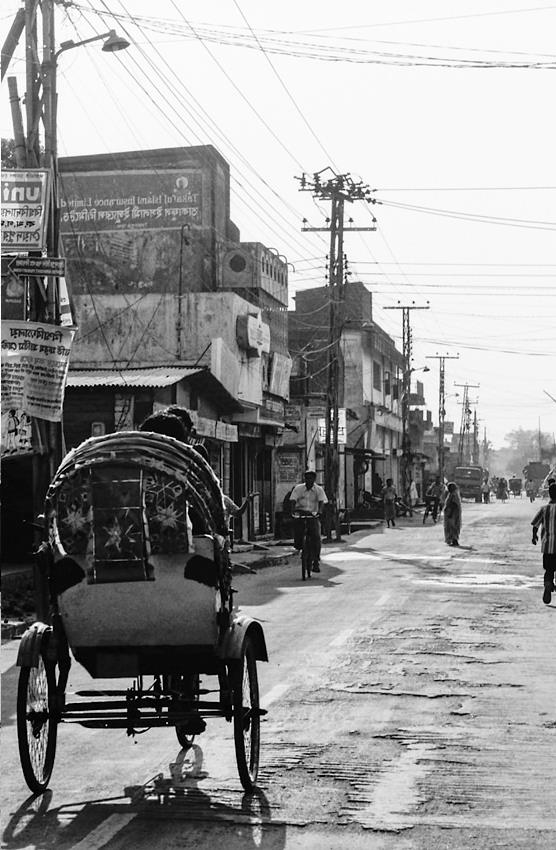Rickshaw: (19, 408, 280, 747)
